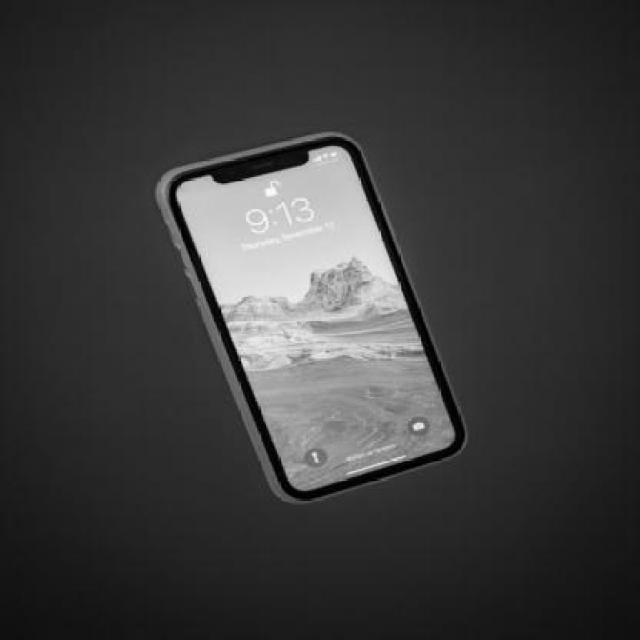fake: (154, 126, 468, 506)
